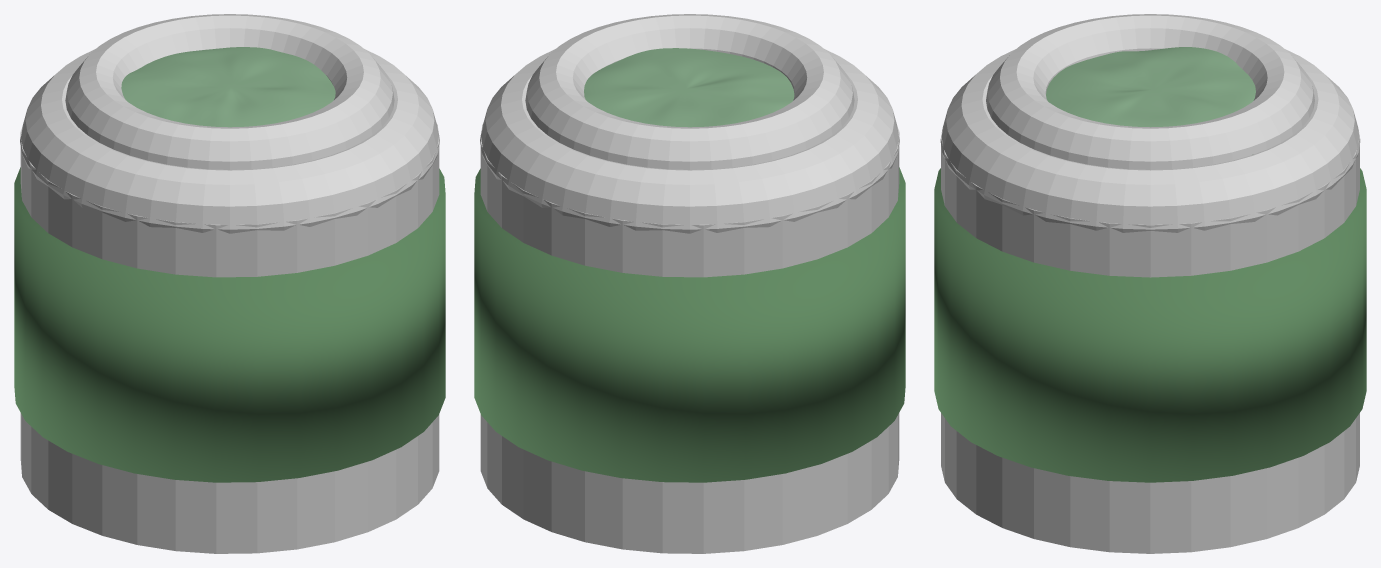
The model's file is kayabottle.fbx.
3 renders of one model, left to right at view 1: azimuth 30°, elevation 25°; view 2: azimuth 150°, elevation 25°; view 3: azimuth 270°, elevation 25°, orthographic.
Parts seen in each view (by area): view 1: Cylinder, Cylinder.001, Sphere.001; view 2: Cylinder, Cylinder.001, Sphere.001; view 3: Cylinder, Cylinder.001, Sphere.001.
Boxes of the visible parts, left/top/right/bottom form: Cylinder: left=20, top=14, right=439, bottom=553; Cylinder.001: left=14, top=167, right=445, bottom=482; Sphere.001: left=121, top=47, right=335, bottom=127; Cylinder: left=480, top=14, right=899, bottom=553; Cylinder.001: left=474, top=167, right=905, bottom=482; Sphere.001: left=527, top=48, right=794, bottom=127; Cylinder: left=940, top=14, right=1360, bottom=553; Cylinder.001: left=934, top=168, right=1366, bottom=482; Sphere.001: left=1046, top=47, right=1255, bottom=154.
Bounding box in the file's own units: 142 × 143 × 142.
